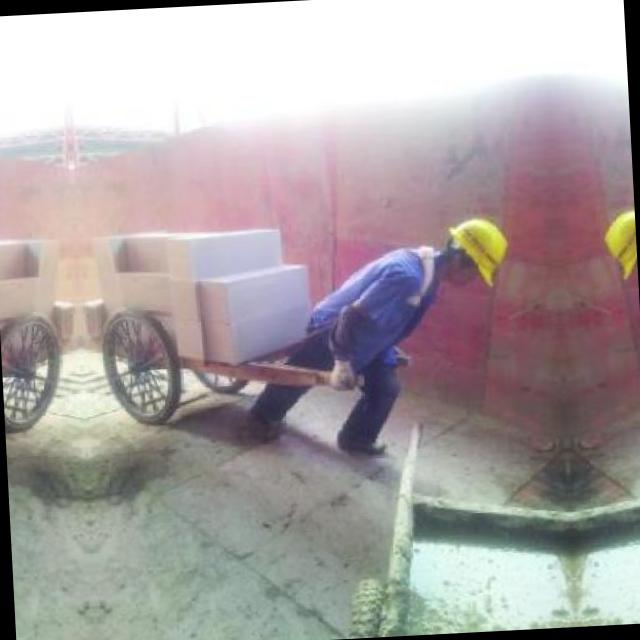helmet: (429, 208, 515, 300), (598, 200, 638, 292)
